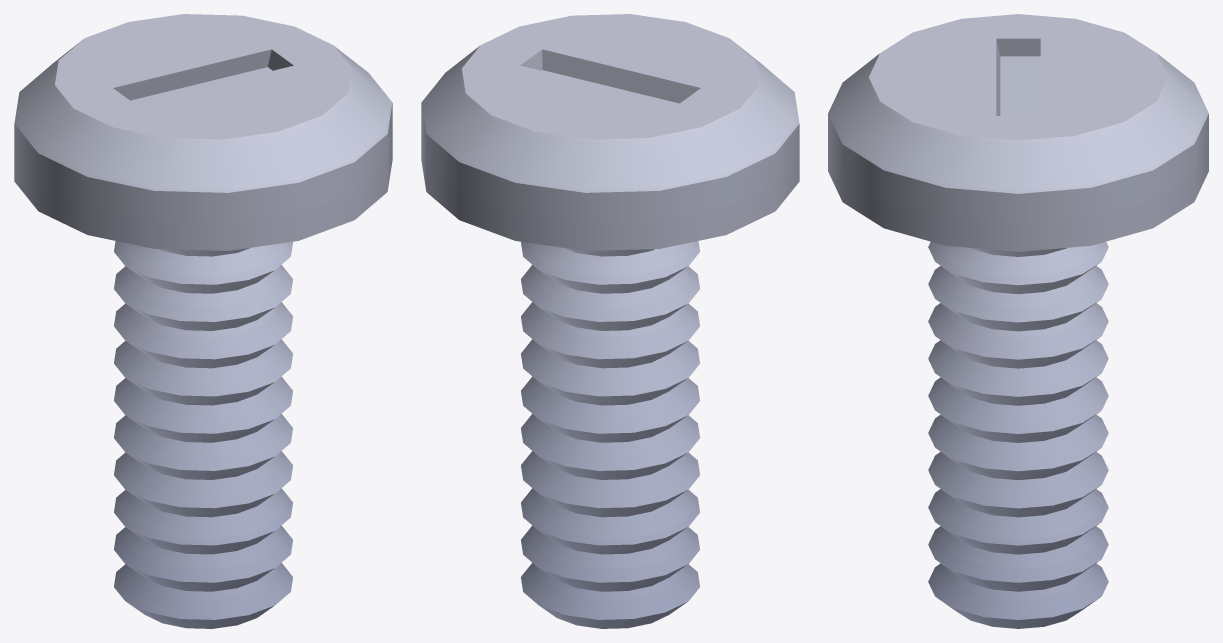
File: sm_screw.fbx
3 views of the same model, side by side, from view 1: azimuth 30°, elevation 25°; view 2: azimuth 150°, elevation 25°; view 3: azimuth 270°, elevation 25° (orthographic).
Parts seen in each view (by area): view 1: Cylinder.001; view 2: Cylinder.001; view 3: Cylinder.001.
Boxes of the visible parts, left/top/right/bottom form: Cylinder.001: left=14, top=14, right=392, bottom=628; Cylinder.001: left=421, top=14, right=799, bottom=628; Cylinder.001: left=828, top=14, right=1208, bottom=628.
Bounding box in the file's own units: 10.49 × 10.49 × 15.9.
